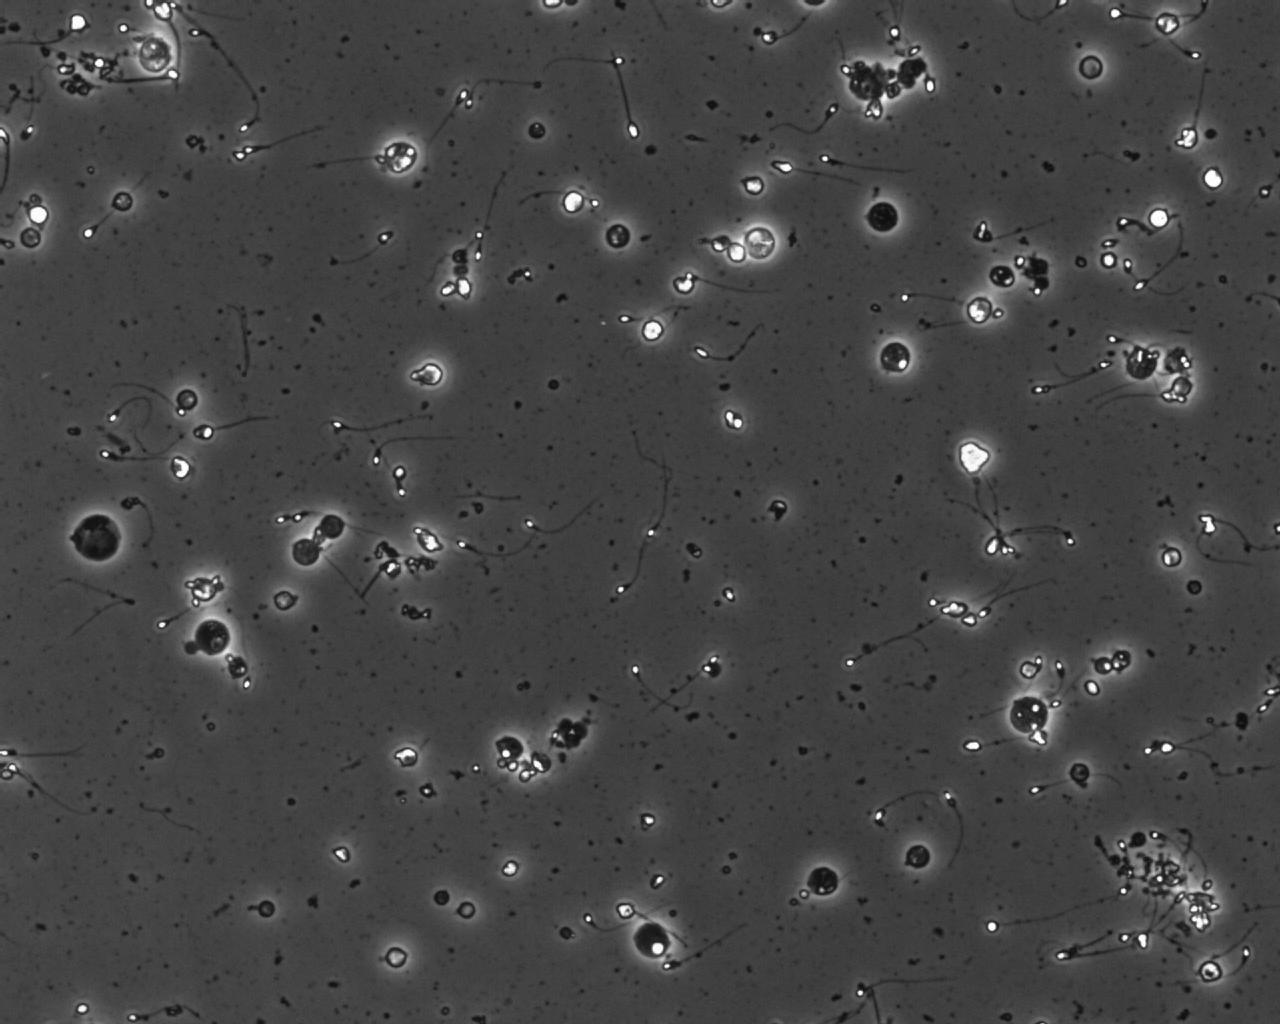cell: (61, 504, 130, 571), (1001, 688, 1056, 741), (840, 57, 897, 110), (187, 612, 238, 664), (130, 29, 180, 82), (626, 915, 678, 965), (860, 195, 905, 239), (378, 136, 423, 179), (738, 222, 781, 266), (872, 336, 917, 379), (1119, 342, 1163, 385), (800, 860, 844, 902), (286, 532, 326, 572), (963, 293, 997, 328), (1159, 345, 1194, 378), (315, 510, 350, 543), (492, 731, 527, 765), (1074, 51, 1108, 84), (984, 261, 1020, 292), (902, 841, 935, 872), (1151, 7, 1183, 39), (602, 222, 633, 252), (15, 222, 45, 253), (1166, 372, 1197, 402), (269, 585, 300, 615), (1197, 163, 1227, 194), (106, 187, 137, 216), (167, 451, 195, 484), (24, 200, 53, 230), (1144, 204, 1173, 234), (172, 385, 202, 415), (526, 748, 555, 778), (559, 187, 588, 216), (637, 316, 667, 345), (1065, 759, 1095, 787), (1157, 543, 1186, 572), (739, 172, 769, 200), (224, 653, 251, 682), (707, 231, 734, 257), (724, 239, 749, 266), (525, 119, 549, 143), (1182, 575, 1206, 599), (179, 639, 200, 659)
